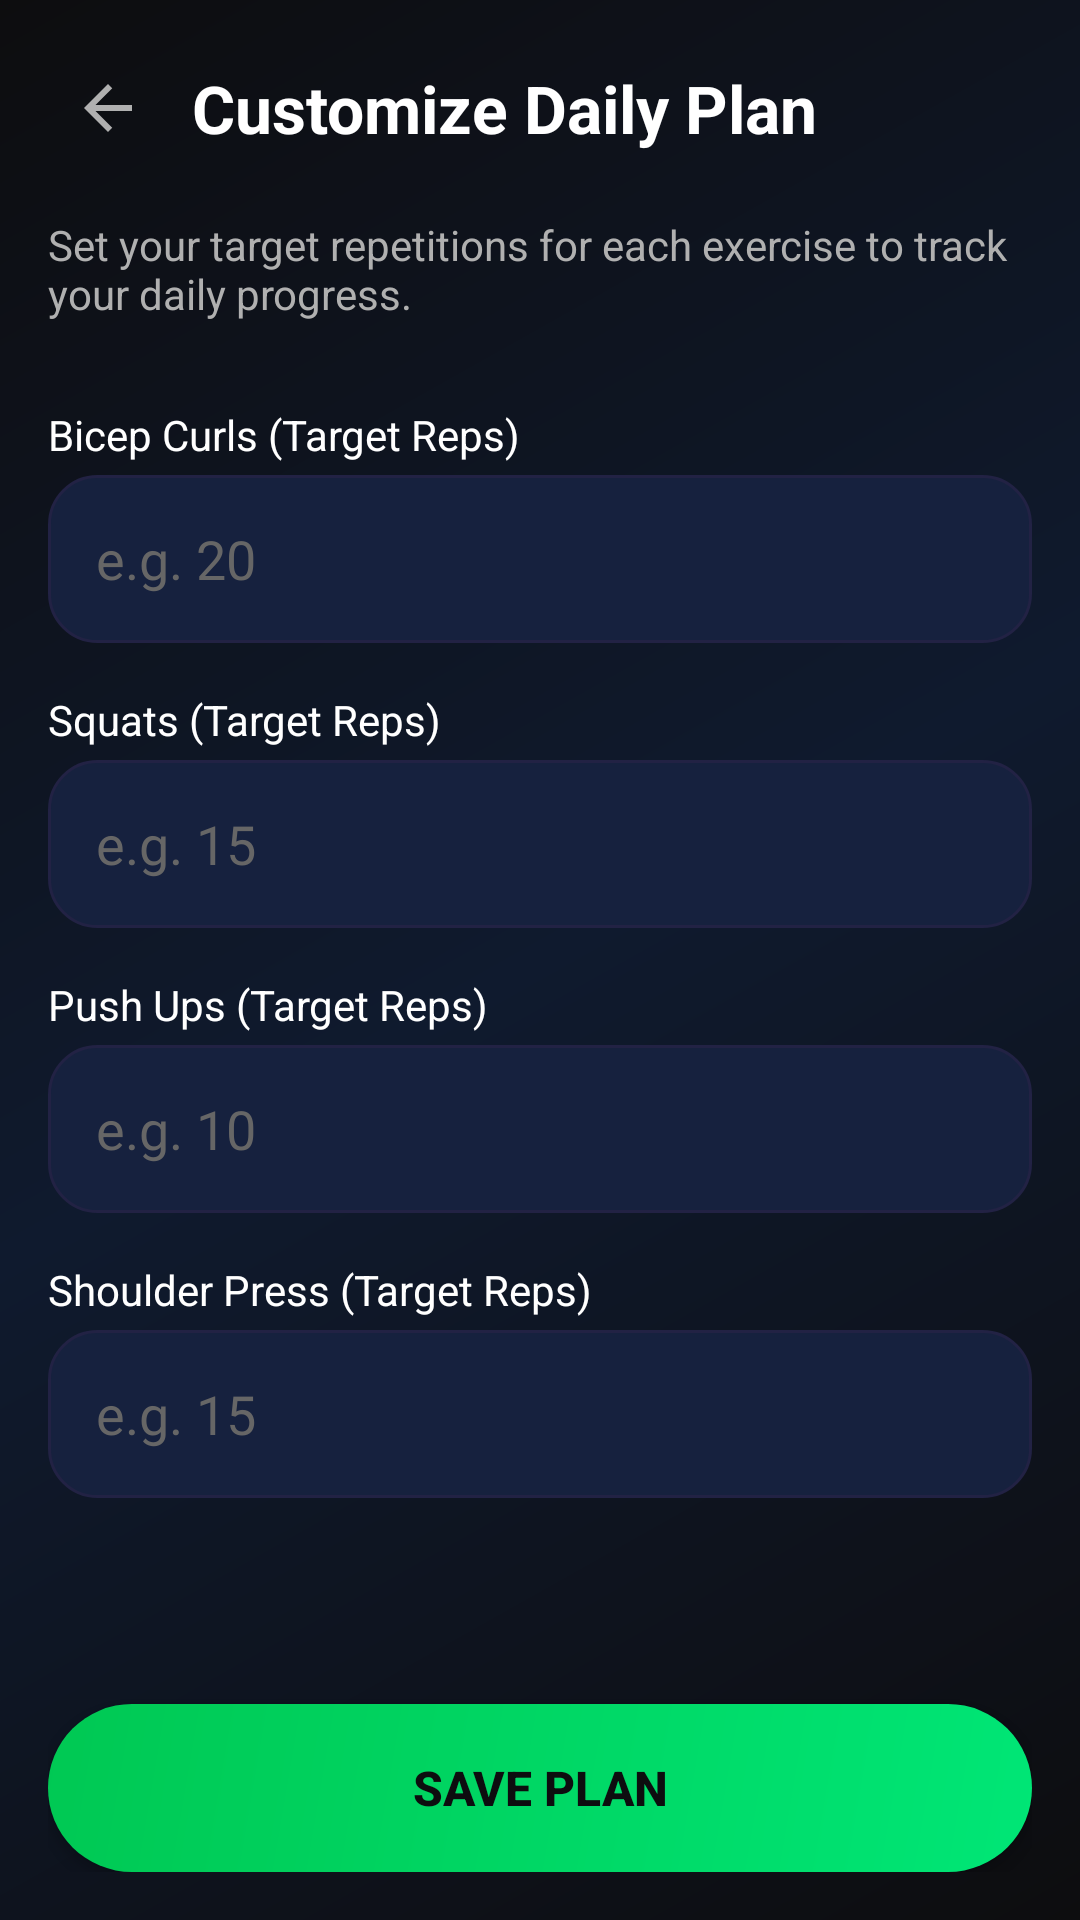

Where icons sit on this 1080 x 1920 app screen, as box=[x1, y1, x2, y2]:
Back: box=[84, 84, 132, 132]
